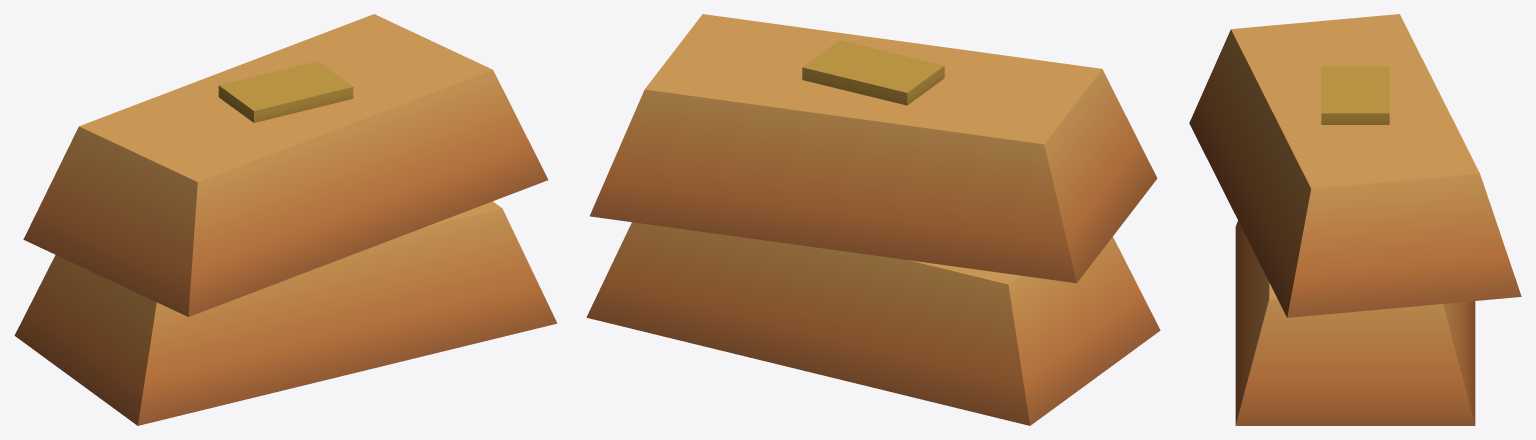
Rendered from item_copper_ingot.glb.
3 renders of one model, left to right at view 1: azimuth 30°, elevation 25°; view 2: azimuth 150°, elevation 25°; view 3: azimuth 270°, elevation 25°, orthographic. The views are drawn at different scales.
Parts seen in each view (by area): view 1: item_copper_ingot; view 2: item_copper_ingot; view 3: item_copper_ingot.
Part boxes in pixels (x1,y1,x2,y2): item_copper_ingot: (14,14,557,425); item_copper_ingot: (586,14,1160,425); item_copper_ingot: (1189,14,1521,425).
Bounding box in the file's own units: 1.19 × 0.61 × 0.7765.
1 material, 1 textured.
